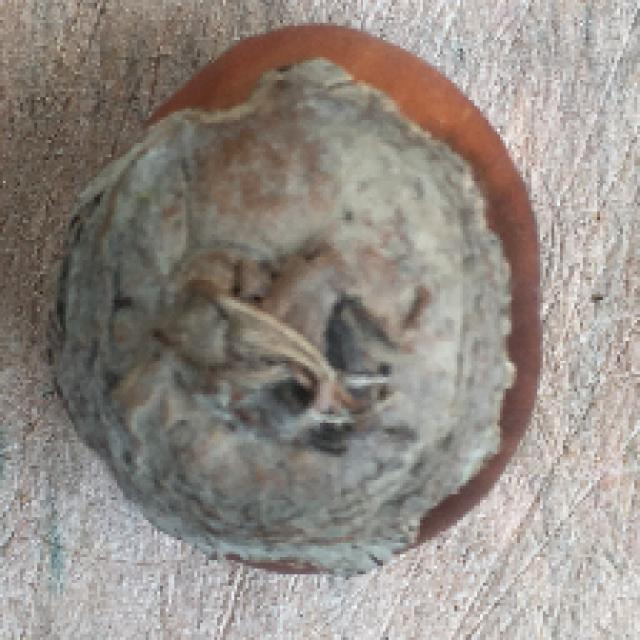qualityHazelnut: (40, 21, 549, 586)
